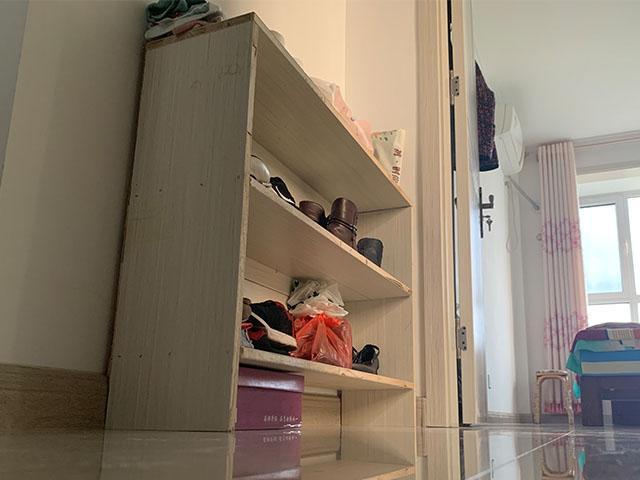bed: (565, 322, 640, 428)
cabinet: (100, 10, 420, 433)
curtain: (536, 141, 589, 416)
stool: (531, 370, 576, 426)
